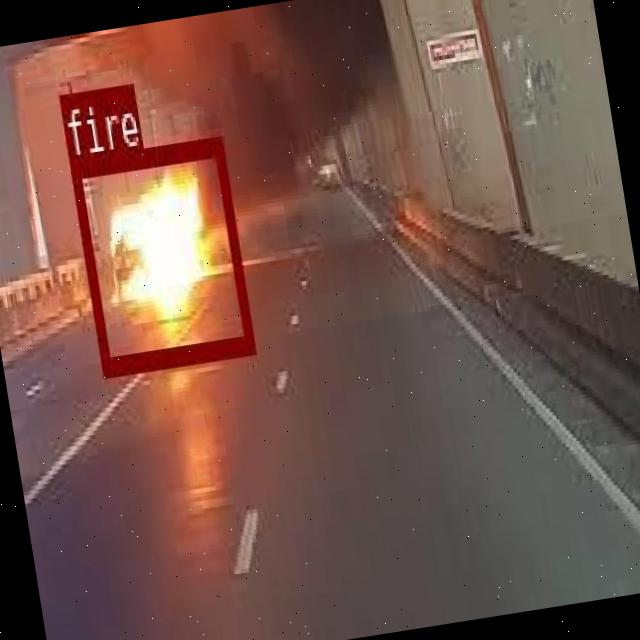fire: (68, 136, 254, 374)
